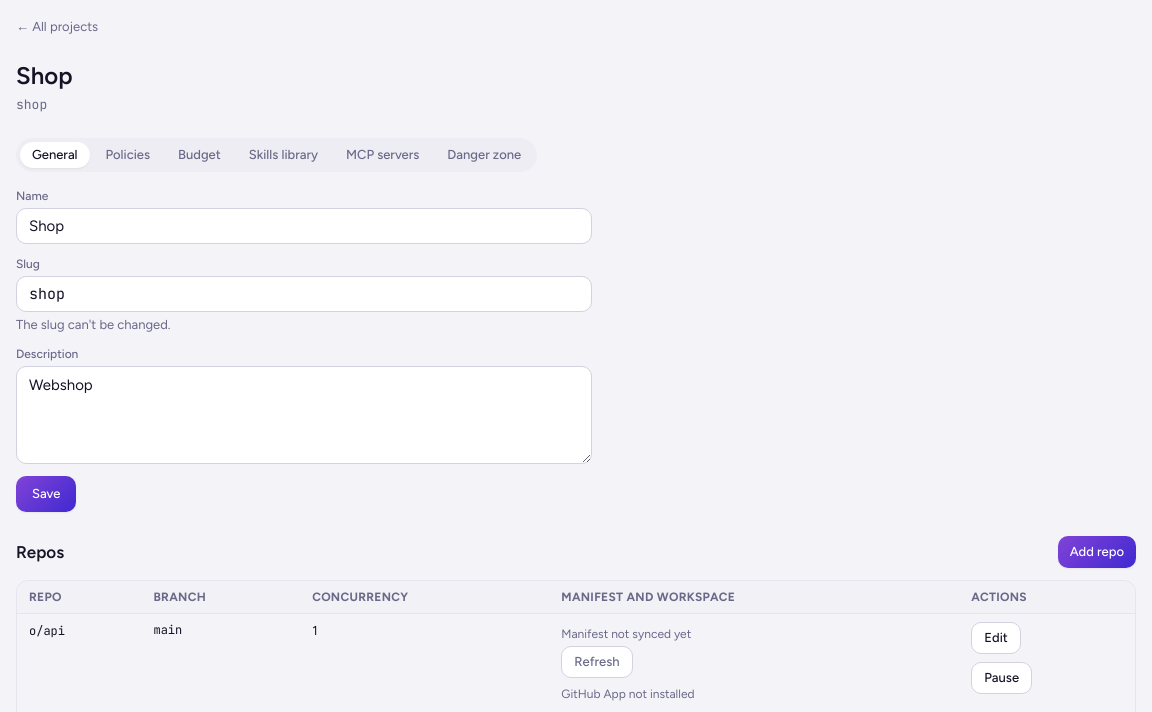
ProjectSettingsView › Budget tab › saves valid limits and refreshes spend and project data
Click the tab "Budget" at (199, 155), box top-left (166, 142), bottom-right (233, 168)
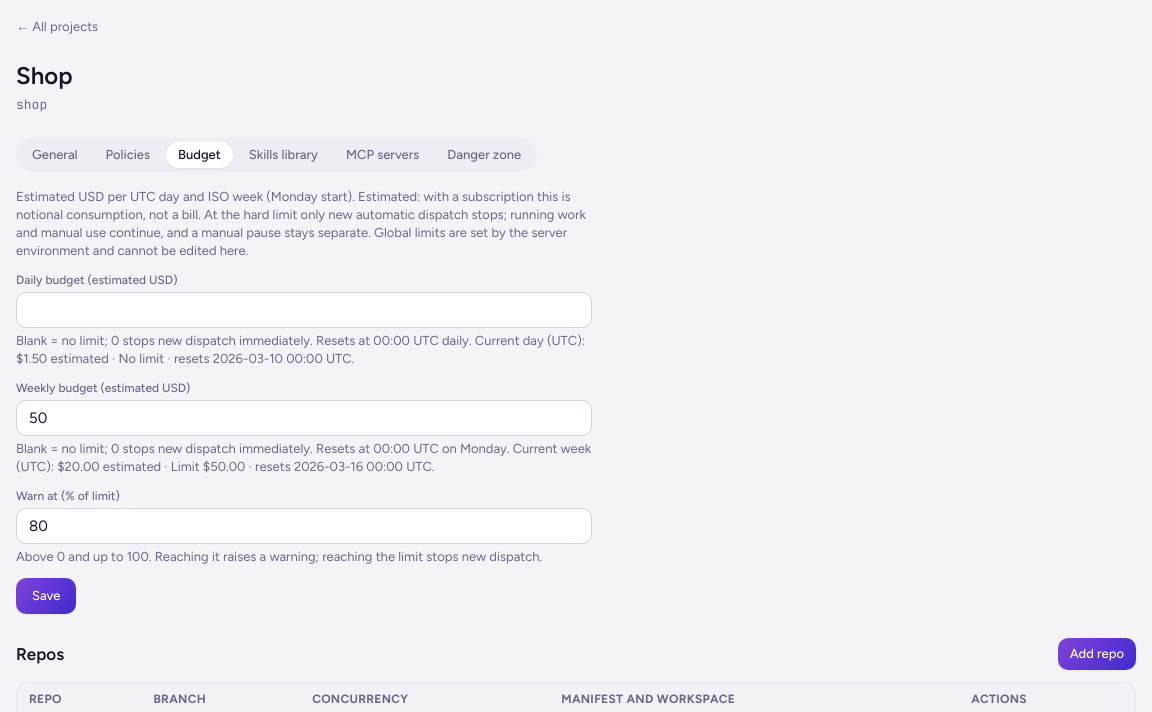
Type "12.5" into the field labelled "Daily budget (estimated USD)" at (304, 310), box top-left (16, 292), bottom-right (592, 328)
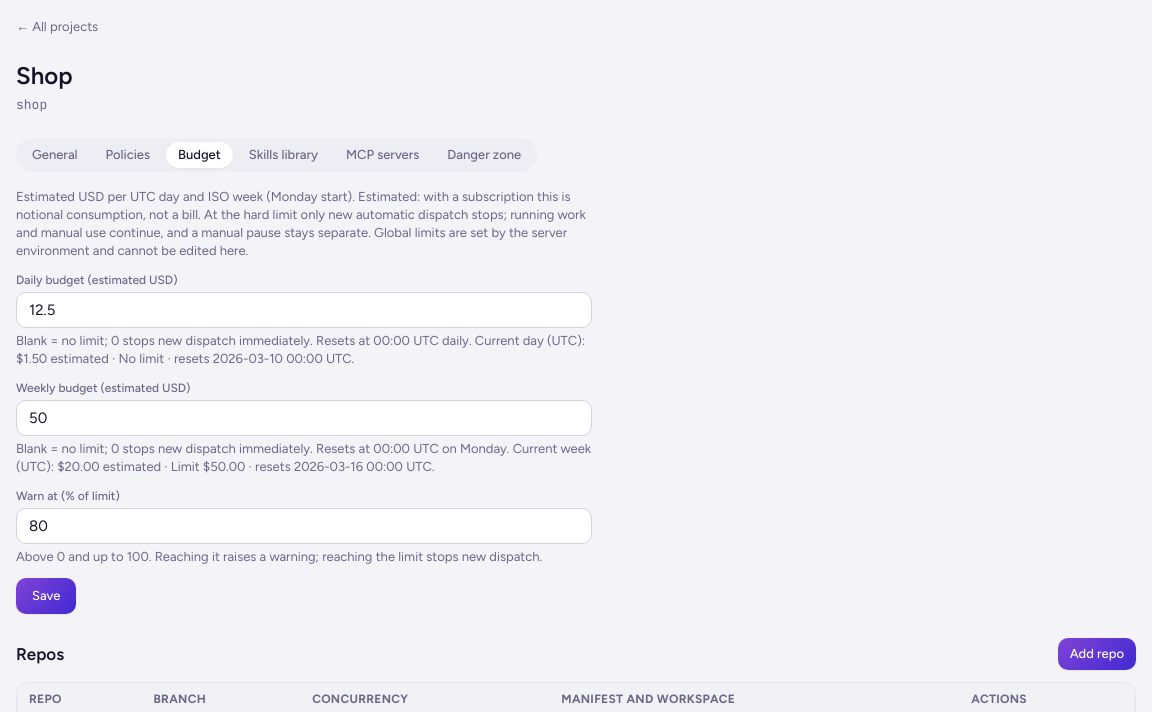
Replace the text in the field labelled "Warn at (% of limit)" with "90" at (304, 526), box top-left (16, 508), bottom-right (592, 544)
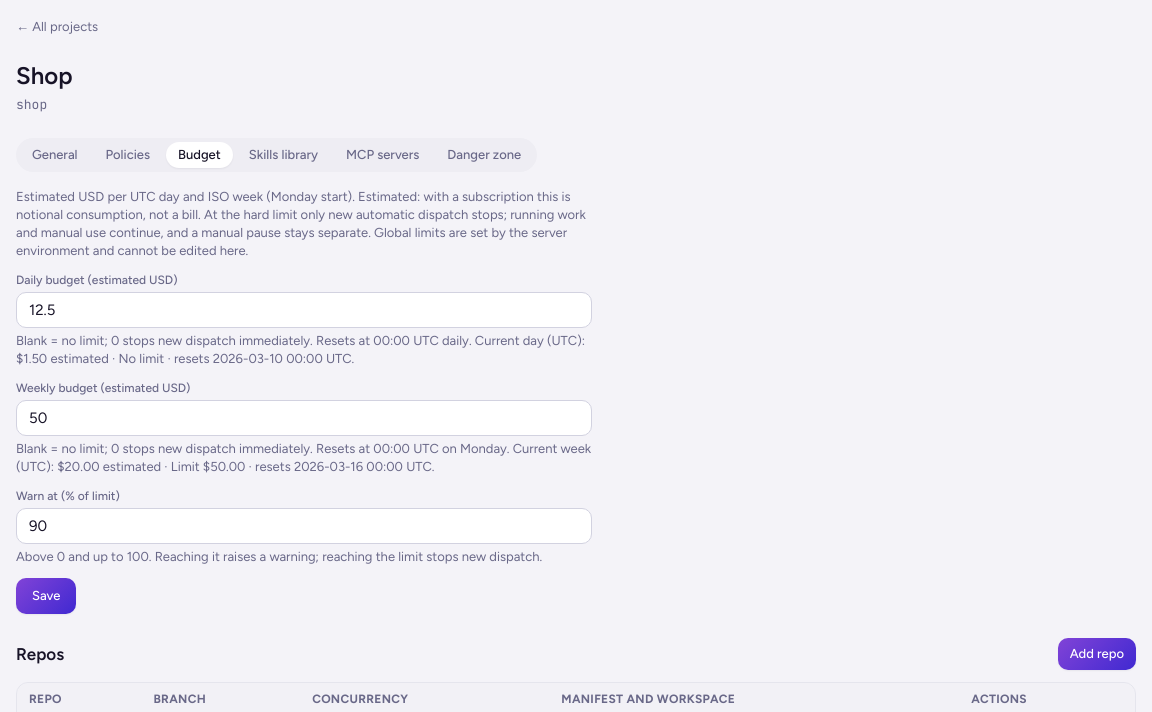
Click the button "Save" at (46, 596), box top-left (16, 578), bottom-right (76, 614)
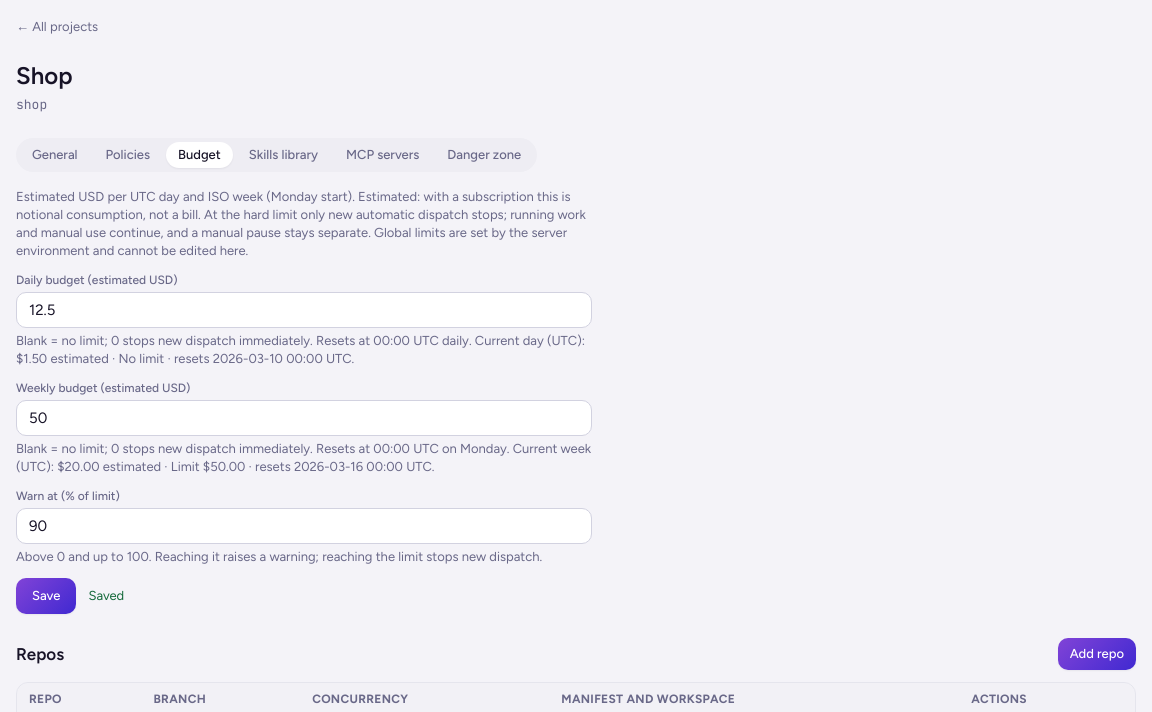
Check: the text "Saved" is shown, box top-left (88, 587), bottom-right (124, 605)
